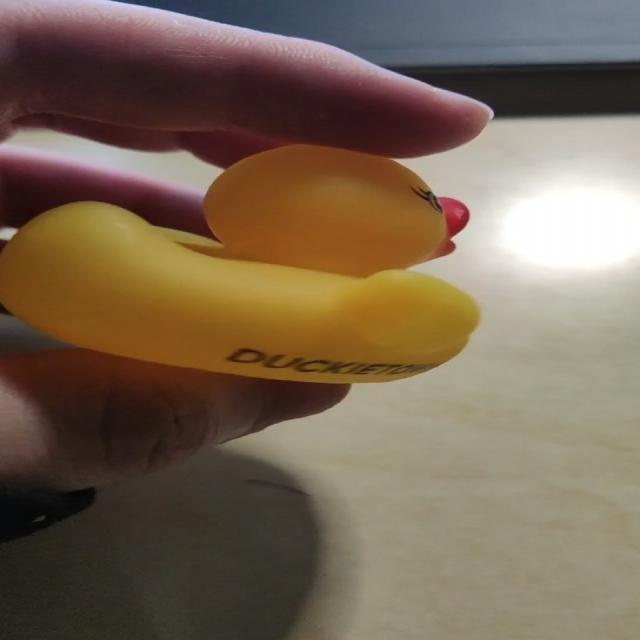rubber-duck: (0, 144, 477, 381)
